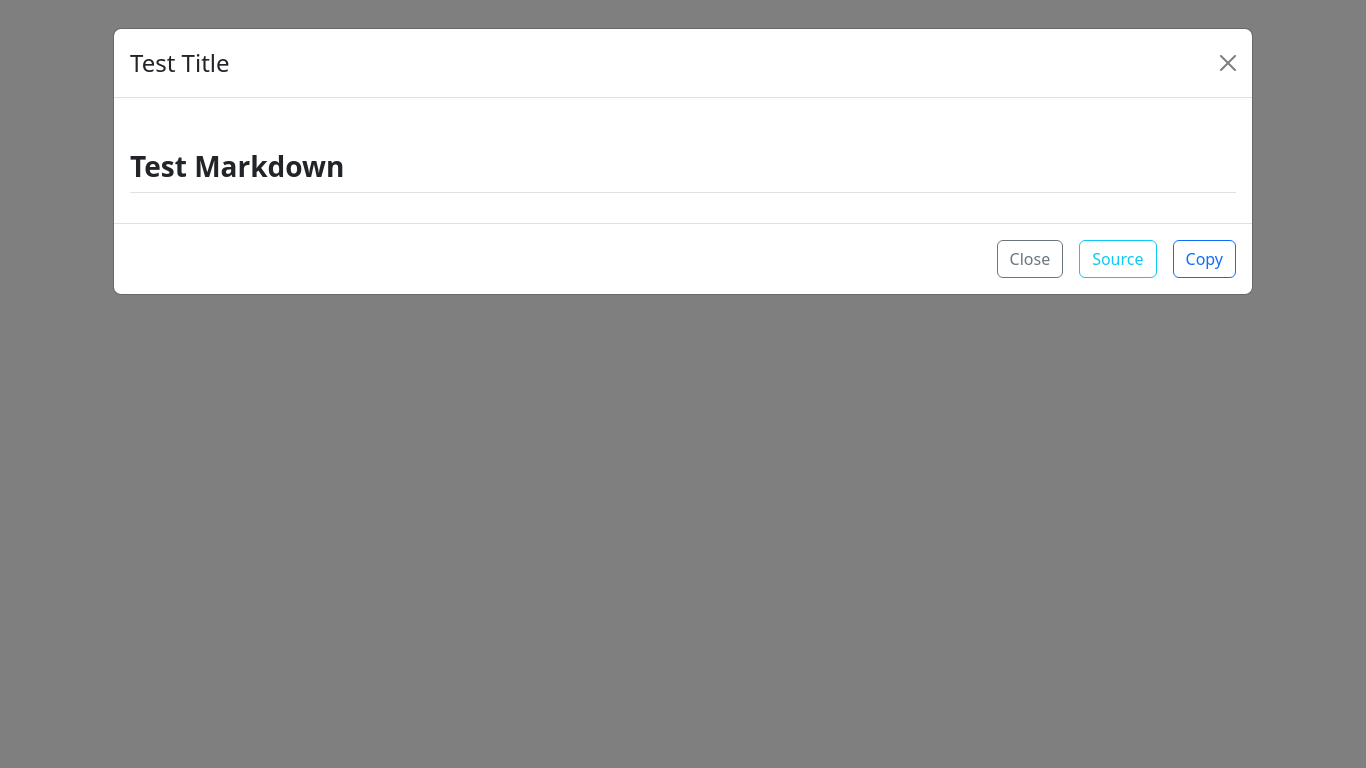
ModalMarkdown Component › should toggle back to rendered view when Source button is clicked again
The image size is (1366, 768).
Click the button with test id "modal-source-button": [1118, 259] box [1079,240,1157,278]
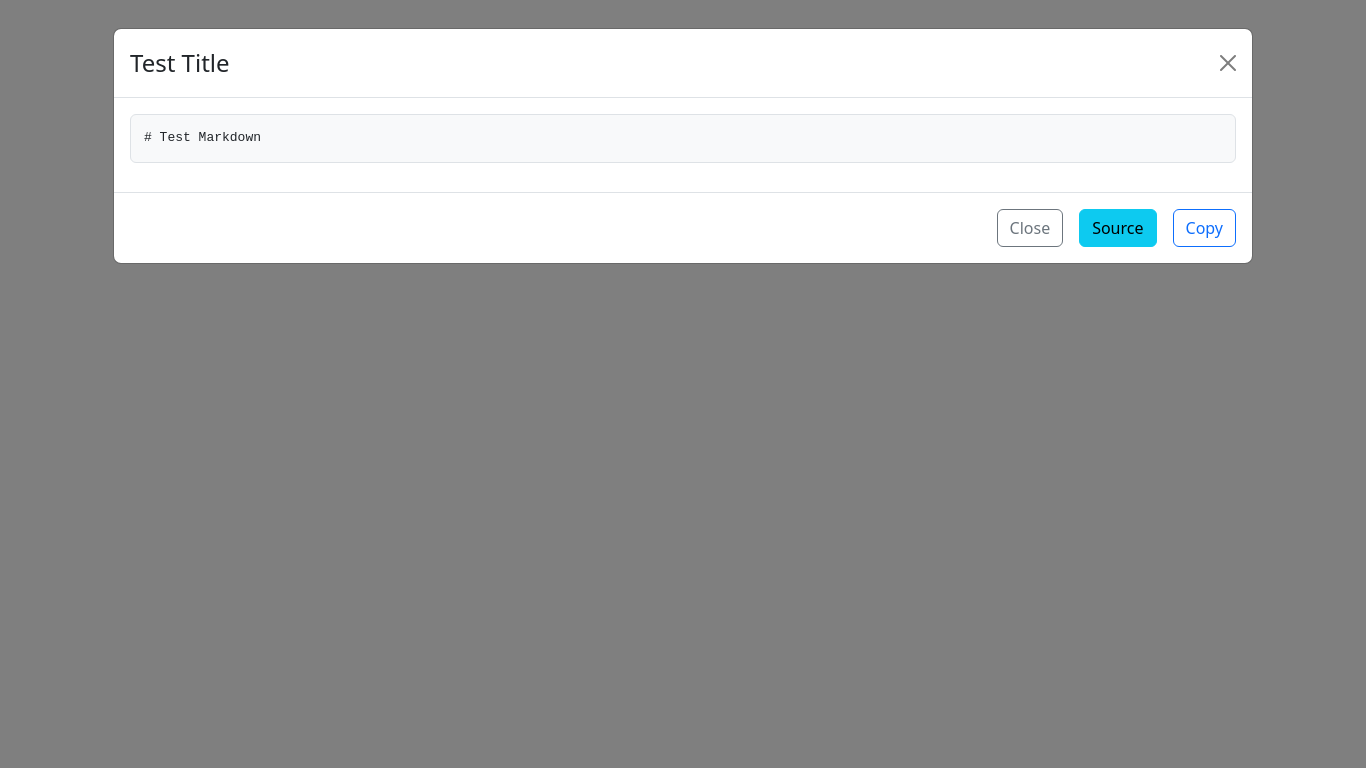
Check: the text "# Test Markdown" is shown, box [130,114,1236,163]
Click the button with test id "modal-source-button": [1118, 228] box [1079,209,1157,247]
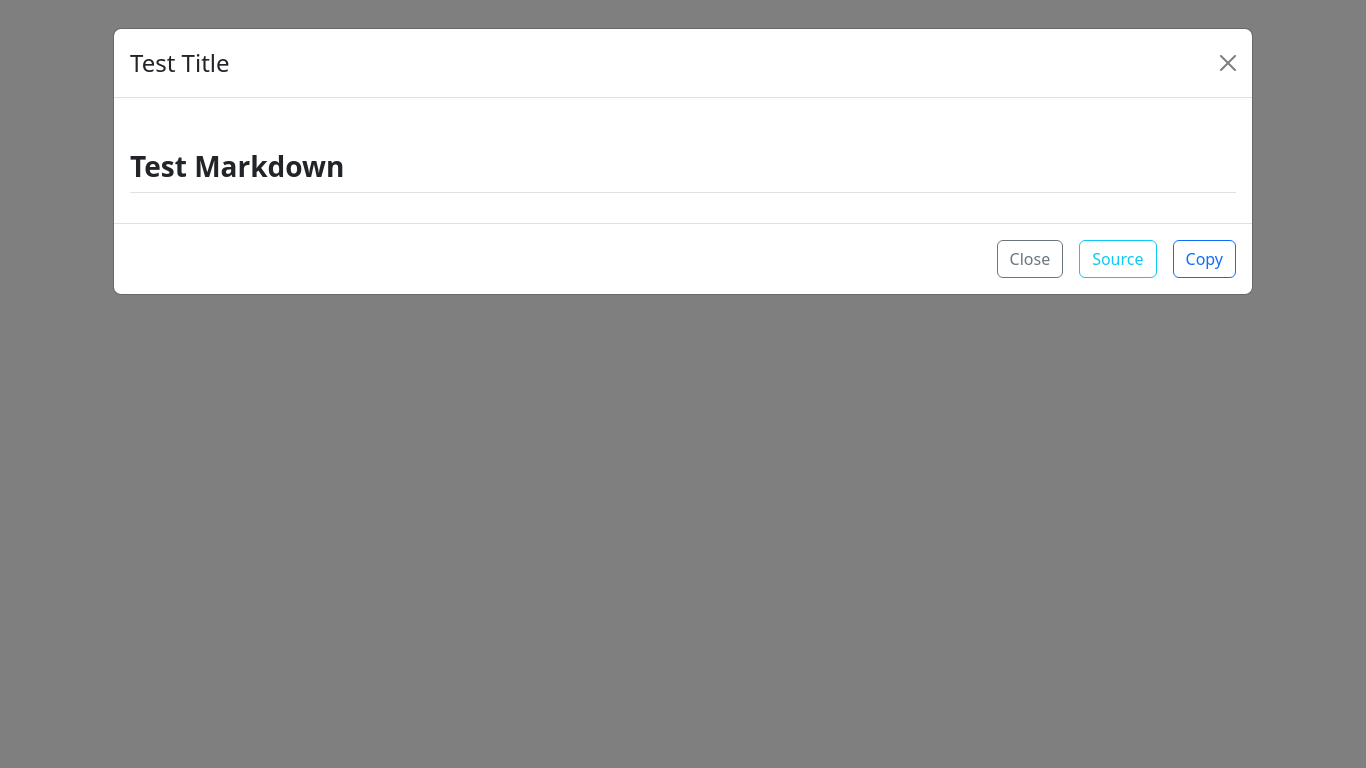
Check: the text with test id "markdown-source-view" is gone
